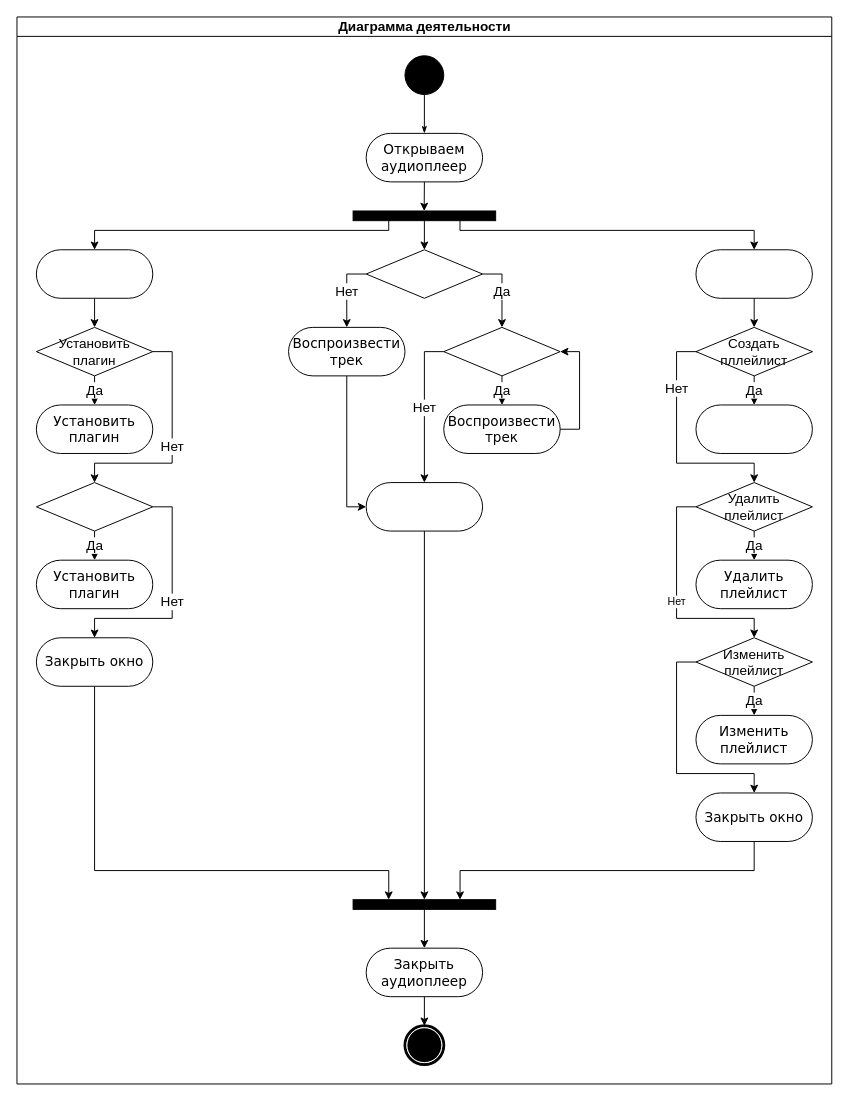
The diagram is 849 pixels wide and 1101 high, and some of its shapes have lost their labels. Here are the shapes that lost their labels. From the top down, the box of each, then its label:
(35, 249, 153, 298): Окно работы с плагинами
(365, 249, 483, 298): Плейлист
(695, 249, 812, 298): Окно работы с плейлистами
(443, 326, 560, 376): Есть трек
(695, 404, 812, 453): Создать плейлист
(35, 482, 153, 531): Удалить плагин
(365, 482, 483, 531): Конец
